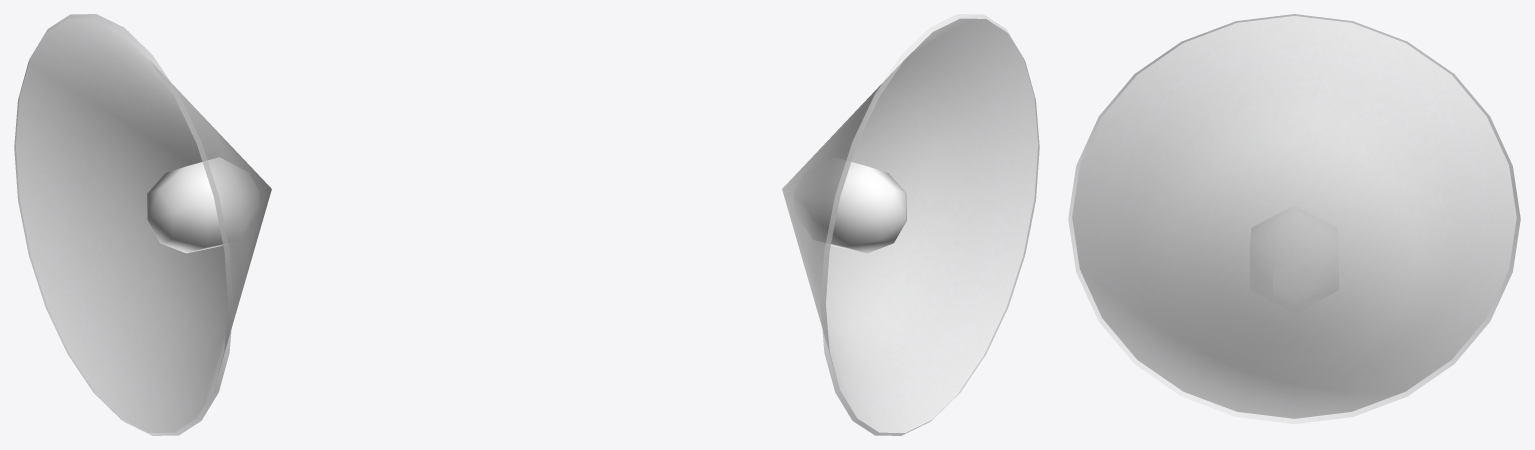
The model's file is props_lights_light_cone_farm_32.glb.
3 renders of one model, left to right at view 1: azimuth 30°, elevation 25°; view 2: azimuth 150°, elevation 25°; view 3: azimuth 270°, elevation 25°, orthographic. The views are drawn at different scales.
Parts seen in each view (by area): view 1: models/props_lights/light_cone_farm_32; view 2: models/props_lights/light_cone_farm_32; view 3: models/props_lights/light_cone_farm_32.
Part boxes in pixels (x1=…): models/props_lights/light_cone_farm_32: x1=14, y1=14, x2=271, y2=435; models/props_lights/light_cone_farm_32: x1=782, y1=14, x2=1039, y2=435; models/props_lights/light_cone_farm_32: x1=1068, y1=14, x2=1520, y2=424.
Size of the model in its own units: 32 by 32 by 32.
1 material, 1 textured.
